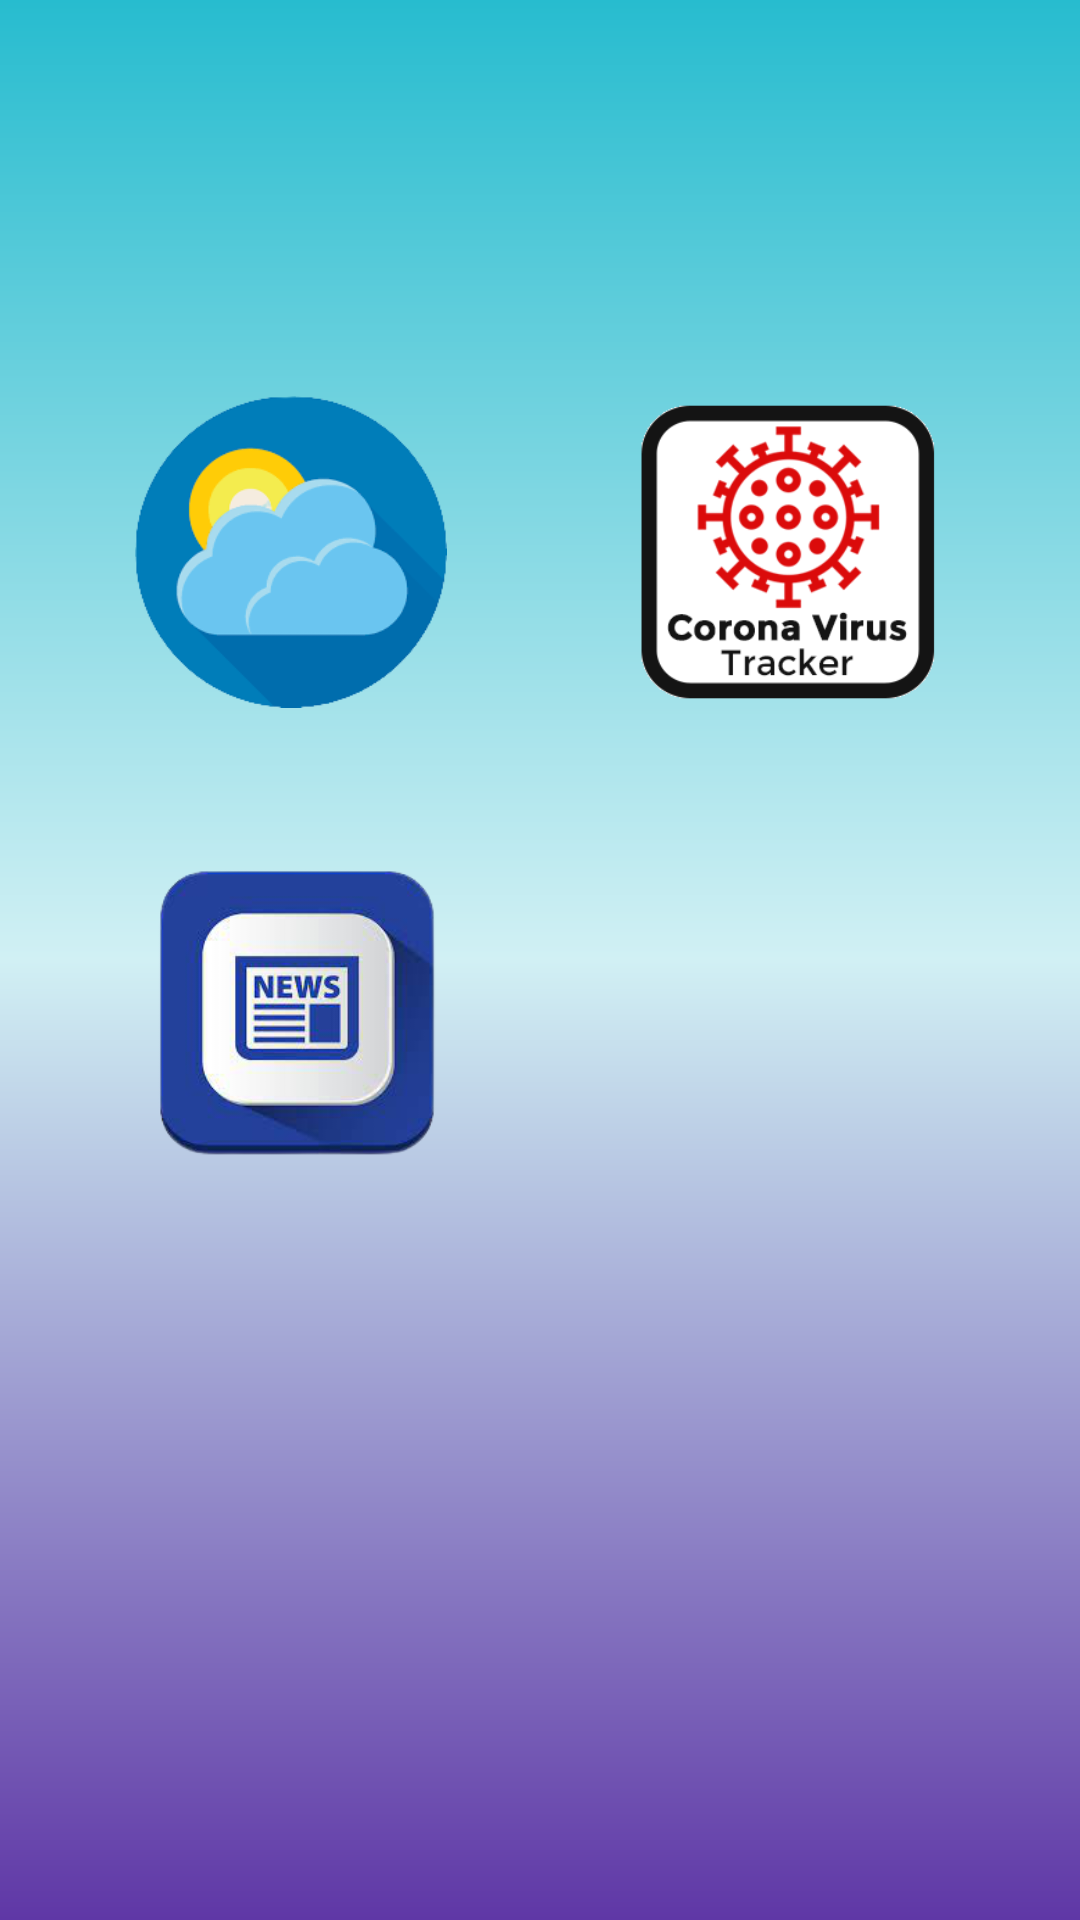

Where to tap for icons on this 1080 x 1920 app screen, as point (x, y):
weather: point (291, 552)
